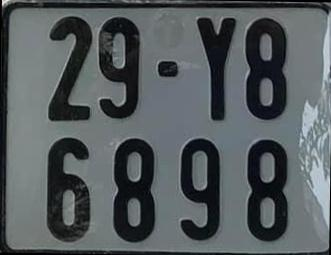-: (158, 61, 178, 76)
2: (50, 15, 90, 122)
6: (48, 137, 91, 241)
8: (113, 138, 156, 241), (247, 139, 288, 243), (246, 16, 286, 120)
9: (180, 139, 221, 240), (99, 18, 140, 117)
Y: (197, 17, 236, 122)
